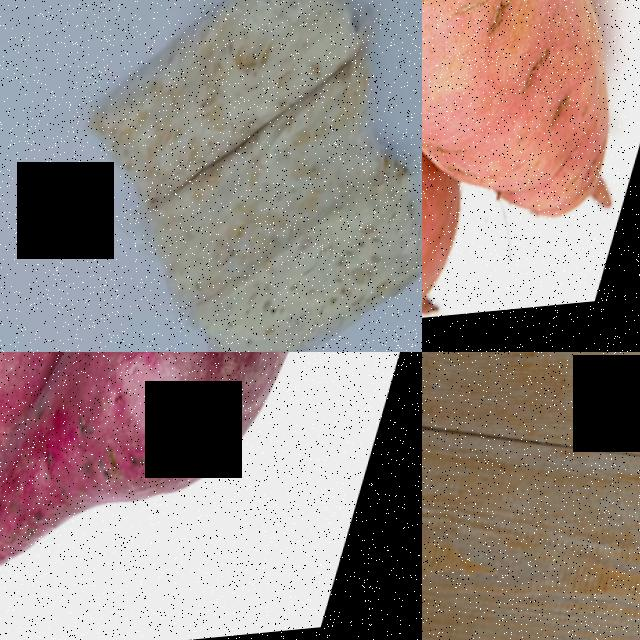sweet potato: (422, 0, 640, 253), (96, 352, 346, 545), (422, 121, 489, 351), (0, 352, 80, 517)
tempeh: (155, 53, 399, 341), (85, 0, 362, 230), (272, 146, 422, 352)
